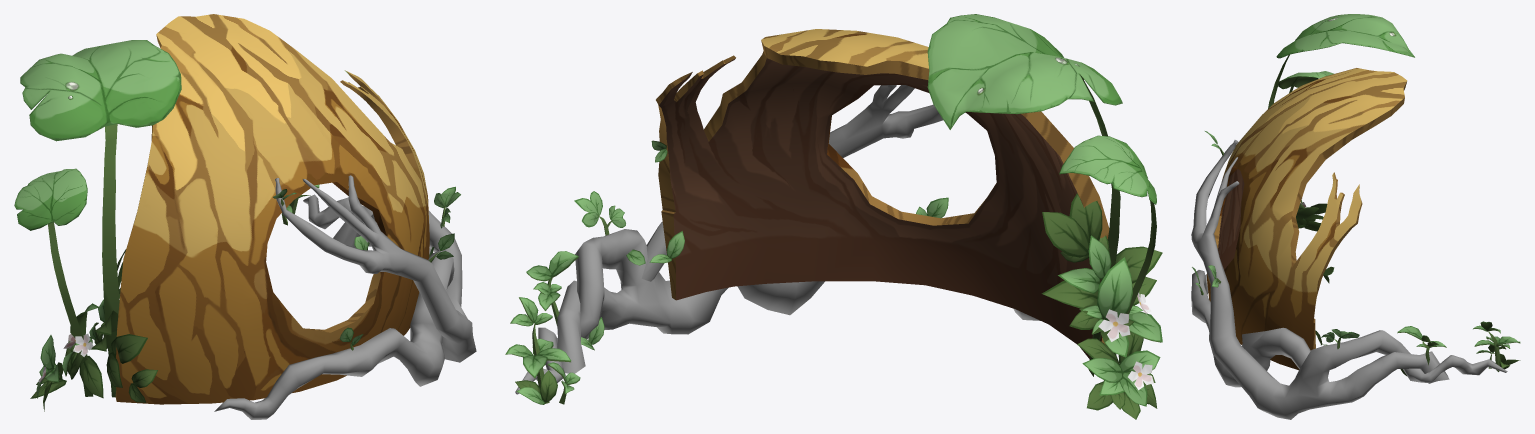
Rendered from wall_11_0.FBX.
The picture shows the model from 3 angles, left to right: view 1: azimuth 30°, elevation 25°; view 2: azimuth 150°, elevation 25°; view 3: azimuth 270°, elevation 25°; orthographic projection. The views are drawn at different scales.
Visible parts, largest first — view 1: 2, 1, 3; view 2: 2, 1, 3; view 3: 2, 3, 1.
Part boxes in pixels (x1,y1,x2,y2): 2: (115, 14, 429, 404); 1: (14, 40, 460, 411); 3: (214, 175, 476, 419); 2: (656, 29, 1109, 359); 1: (505, 14, 1162, 419); 3: (515, 85, 1040, 394); 2: (1207, 68, 1407, 370); 3: (1191, 140, 1507, 419); 1: (1192, 14, 1520, 375).
Size of the model in its own units: 5.96 by 4.33 by 4.68.
2 materials, 1 textured.
